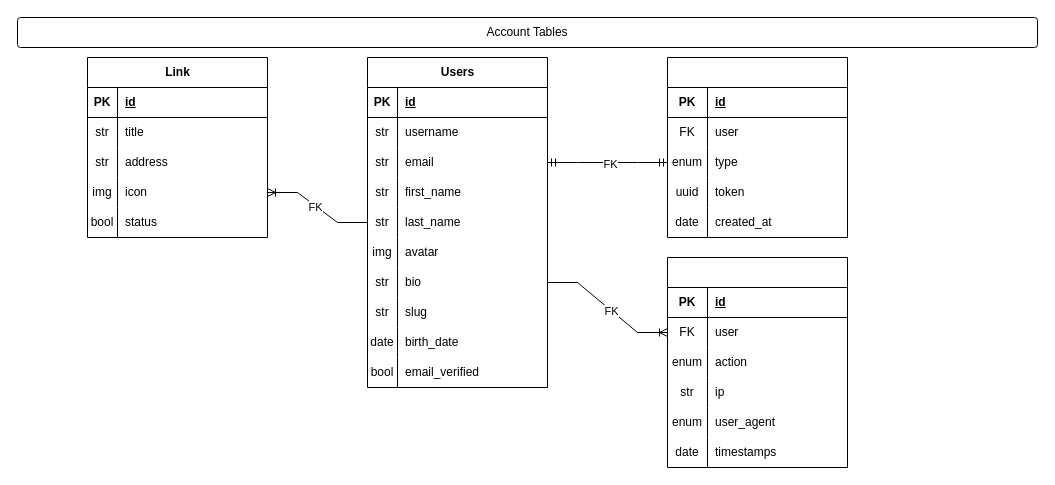
Some shapes in this 1055 by 485 pixel diagram are drawn without their labels. The box of each missing label's shape, as (x1, y1, x2, y2) in pixels:
Audit: (666, 256, 848, 468)
Tokens: (666, 56, 848, 238)
